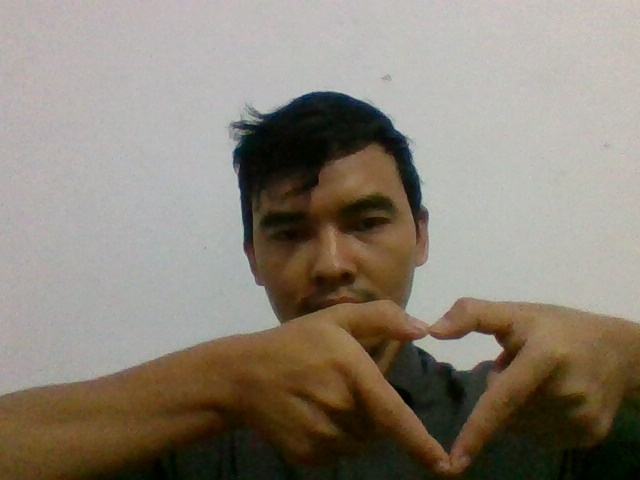iloveyou: (279, 286, 563, 480)
